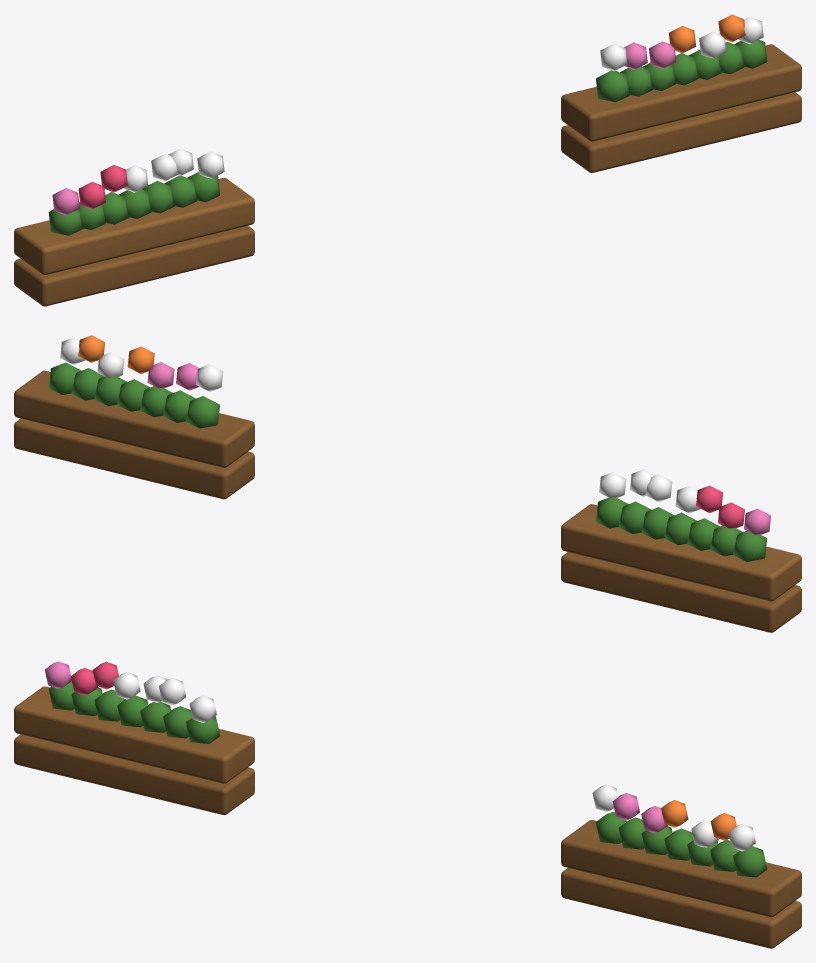
Rendered from house_boxes.glb.
3 views of the same model, one above another, from view 1: azimuth 30°, elevation 25°; view 2: azimuth 150°, elevation 25°; view 3: azimuth 330°, elevation 25° (orthographic).
Visible parts, largest first — view 1: house_boxes_main, house_boxes_flowers; view 2: house_boxes_main, house_boxes_flowers; view 3: house_boxes_main, house_boxes_flowers.
Part boxes in pixels (left/top/right/bottom): house_boxes_main: left=14, top=44, right=801, bottom=306; house_boxes_flowers: left=48, top=14, right=767, bottom=235; house_boxes_main: left=14, top=370, right=801, bottom=632; house_boxes_flowers: left=48, top=335, right=770, bottom=561; house_boxes_main: left=14, top=686, right=801, bottom=948; house_boxes_flowers: left=45, top=661, right=767, bottom=877.
Bounding box in the file's own units: 2.28 × 0.3318 × 0.16.
